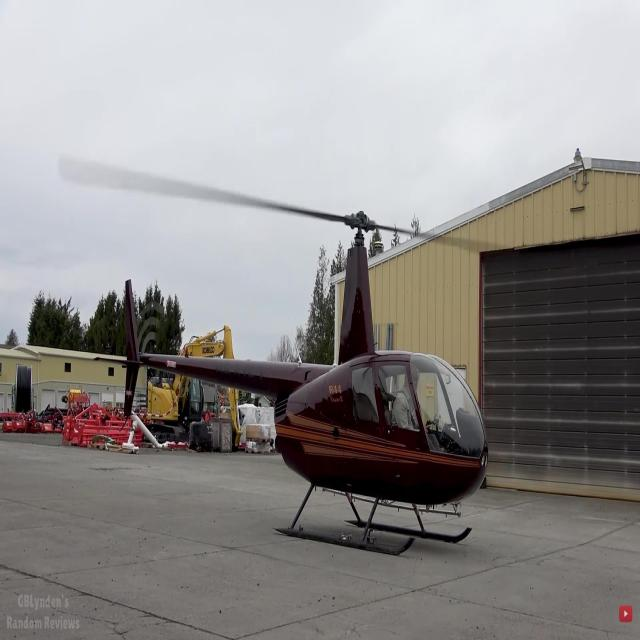CIV_HELO: (92, 209, 491, 560)
